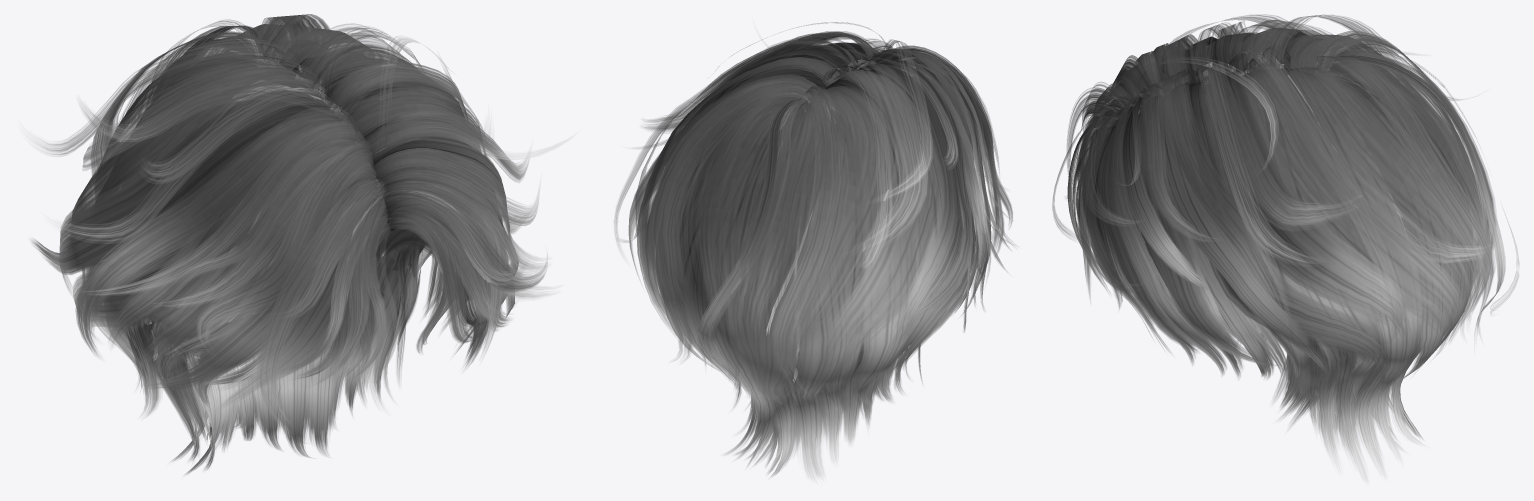
The model's file is wolf_haircut.glb.
The picture shows the model from 3 angles, left to right: view 1: azimuth 30°, elevation 25°; view 2: azimuth 150°, elevation 25°; view 3: azimuth 270°, elevation 25°; orthographic projection. The views are drawn at different scales.
Visible parts, largest first — view 1: WolfHaircut; view 2: WolfHaircut; view 3: WolfHaircut.
Part boxes in pixels (bbox=[...]): WolfHaircut: bbox=[26, 14, 569, 474]; WolfHaircut: bbox=[614, 22, 1018, 483]; WolfHaircut: bbox=[1052, 14, 1519, 484].
Size of the model in its own units: 0.2698 by 0.2694 by 0.2714.
Materials: 1 (1 with a texture image).
